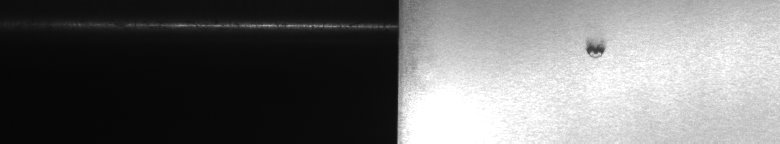fi: (578, 32, 612, 64)
